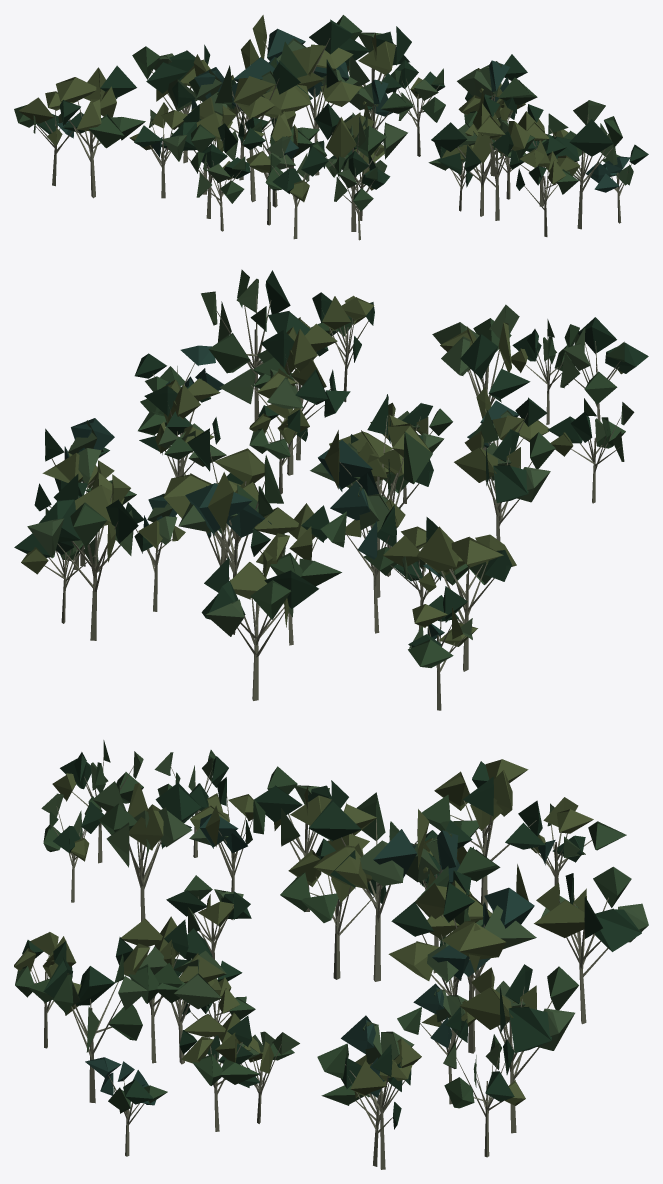
The model's file is forest_22_24.dae.
3 views of the same model, one above another, from view 1: azimuth 30°, elevation 25°; view 2: azimuth 150°, elevation 25°; view 3: azimuth 270°, elevation 25° (orthographic). The views are drawn at different scales.
Visible parts, largest first — view 1: Node; view 2: Node; view 3: Node.
Part boxes in pixels (x1,y1,x2,y2): Node: (14,15,648,240); Node: (14,269,648,710); Node: (14,740,648,1169).
Size of the model in its own units: 10.79 by 10.77 by 4.66.
